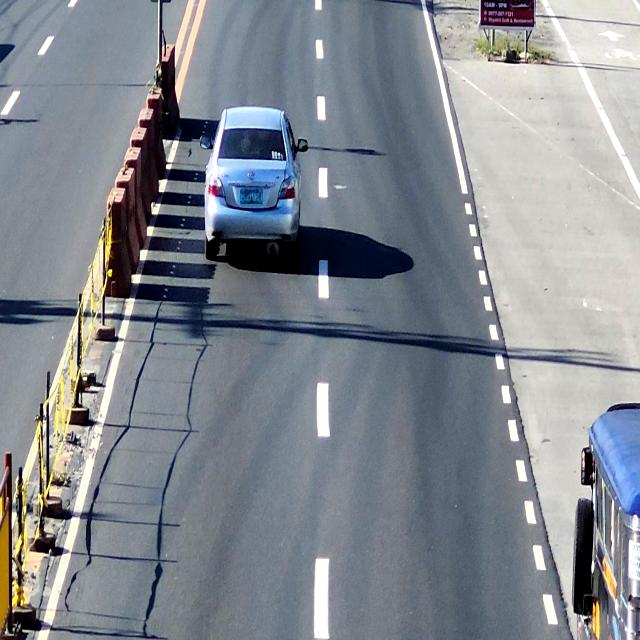Car: (207, 108, 306, 264)
Jeep: (566, 394, 640, 640)
License-Plate: (238, 186, 262, 208)
